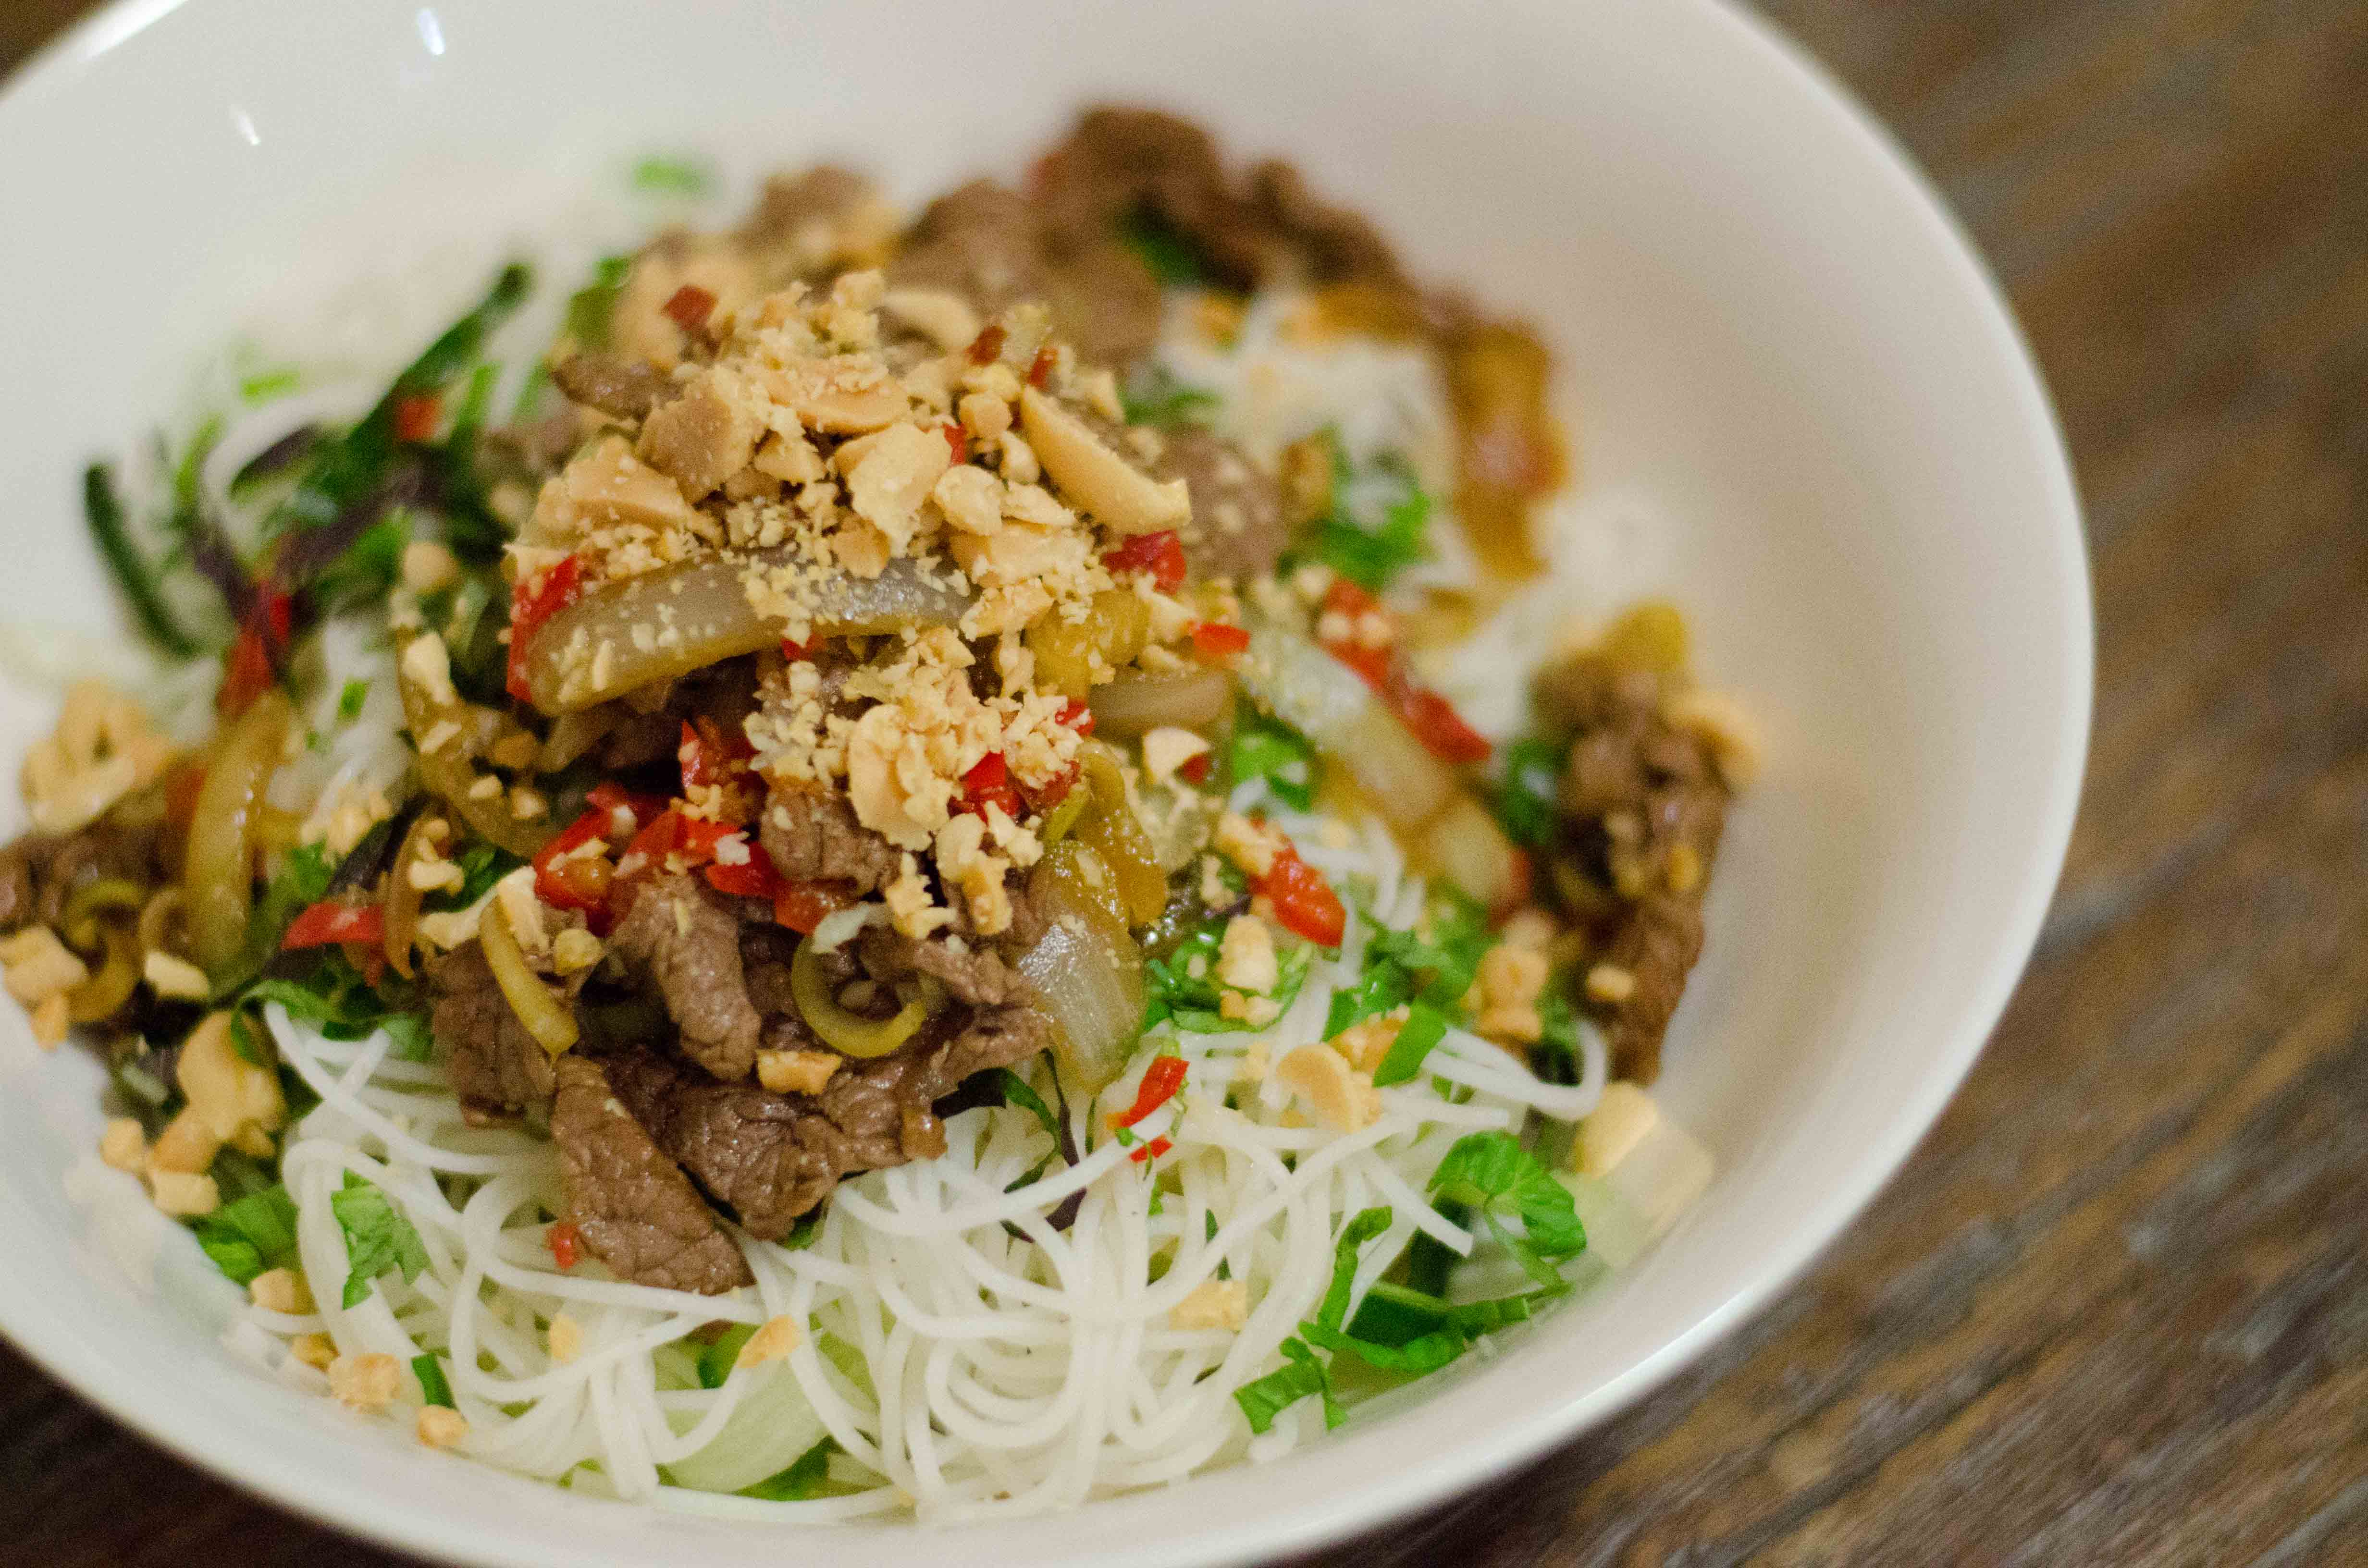beef: (459, 912, 823, 1207), (1521, 689, 1713, 1076), (796, 934, 1041, 1139)
